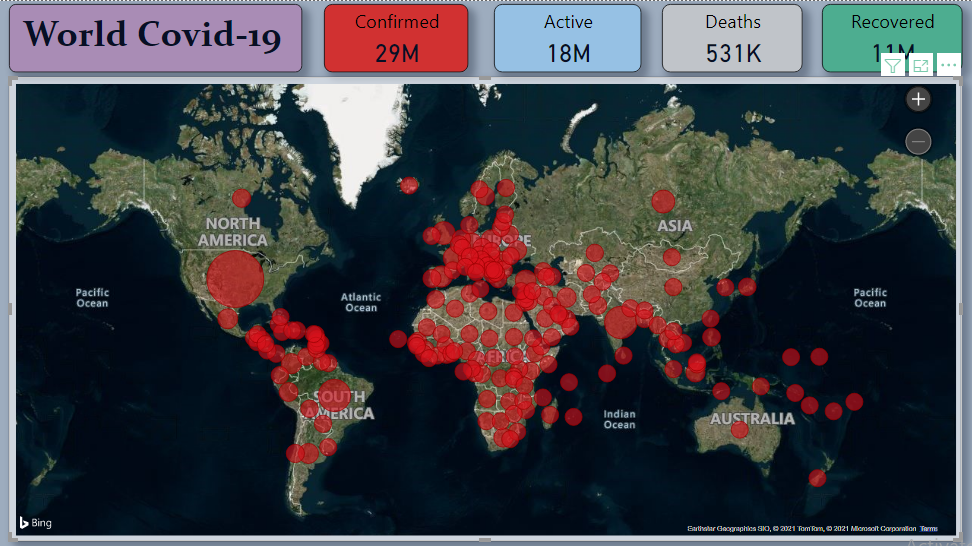

The page's visual inventory and layout, read from the dashboard file:
{"tool":"powerbi","page":{"name":"Covid Map","canvas":[1280,720],"ordinal":0},"visuals":[{"type":"map","fields":{"Category":["covid_cases_data.Country"],"Size":["Max(covid_cases_data.Confirmed)"]},"box":[11.8,100,1254.4,610.7],"z":0},{"type":"textbox","box":[12.4,4.1,386.2,89.7],"z":1000},{"type":"card","title":"Active","fields":{"Values":["covid_cases_data.Active"]},"box":[649.7,4.1,194.5,89.7],"z":2000},{"type":"card","title":"Confirmed","fields":{"Values":["Max(covid_cases_data.Confirmed)"]},"box":[426.2,4.1,190.3,89.7],"z":3000},{"type":"card","title":"Deaths","fields":{"Values":["Max(covid_cases_data.Deaths)"]},"box":[871.7,4.1,184.8,89.7],"z":4000},{"type":"card","title":"Recovered","fields":{"Values":["Max(covid_cases_data.Recovered)"]},"box":[1081.4,4.1,184.8,89.7],"z":5000}]}

Visuals, with their boxes in screenshot pixels (x1, y1, x2, y2), scaled from the page's 1280x720 canvas onto the 972x546 screenshot:
map - covid_cases_data.Country x Max(covid_cases_data.Confirmed): <box>9,76,962,539</box>
textbox: <box>9,3,303,71</box>
"Active" card: <box>493,3,641,71</box>
"Confirmed" card: <box>324,3,468,71</box>
"Deaths" card: <box>662,3,802,71</box>
"Recovered" card: <box>821,3,962,71</box>
